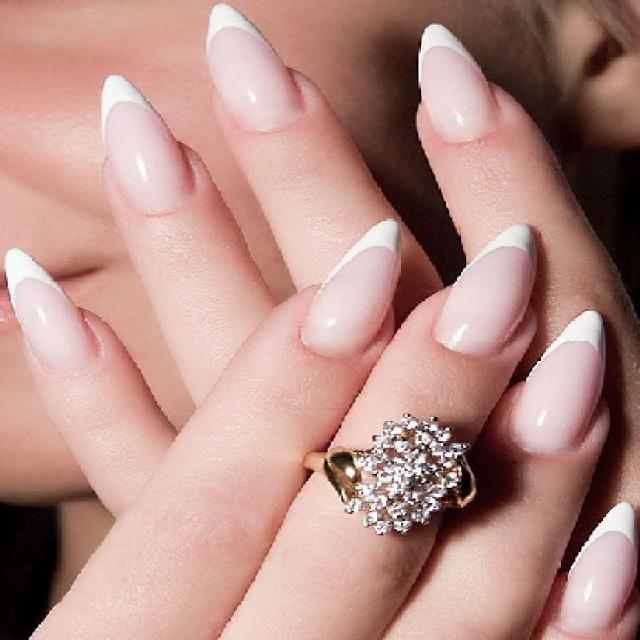Nail: (301, 219, 400, 356), (511, 310, 605, 453), (434, 225, 536, 354), (102, 76, 194, 212), (208, 5, 305, 133), (5, 249, 99, 374), (560, 502, 638, 635), (419, 24, 498, 142)
